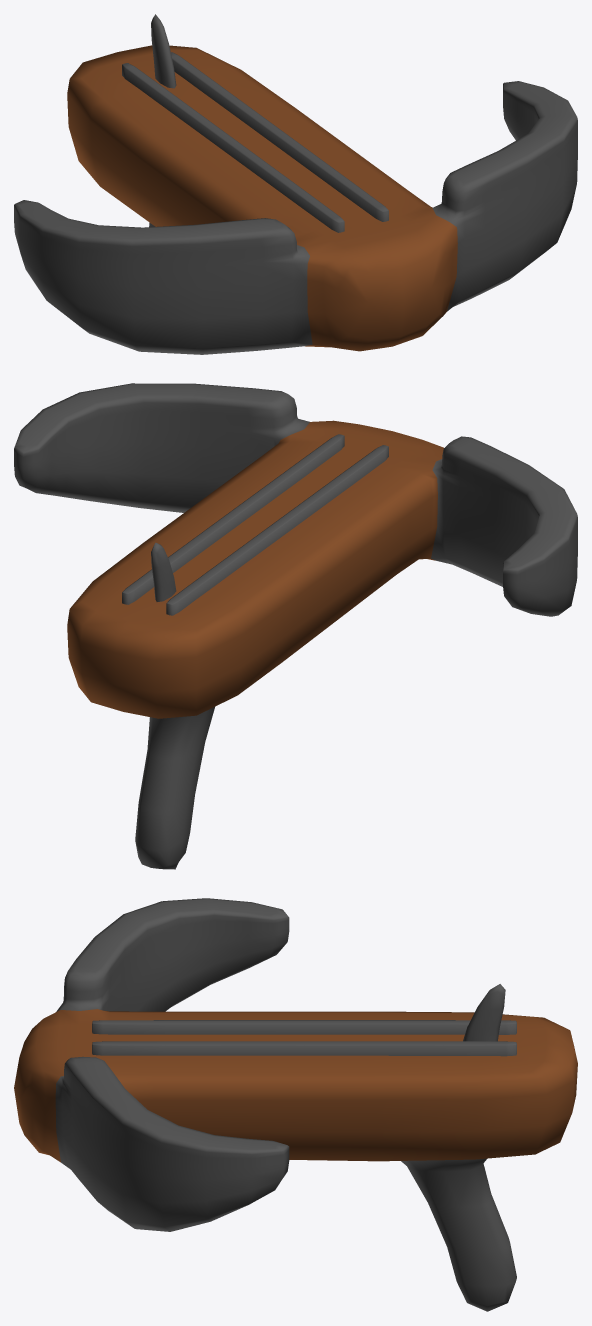
Rendered from CrossbowFBX.fbx.
The picture shows the model from 3 angles, top to bottom: view 1: azimuth 30°, elevation 25°; view 2: azimuth 150°, elevation 25°; view 3: azimuth 270°, elevation 25°; orthographic projection. The views are drawn at different scales.
Visible parts, largest first — view 1: Mesh; view 2: Mesh; view 3: Mesh.
Boxes of the visible parts, left/top/right/bottom form: Mesh: left=14, top=14, right=577, bottom=354; Mesh: left=14, top=383, right=577, bottom=869; Mesh: left=14, top=898, right=577, bottom=1311.
Size of the model in its own units: 223 by 134 by 212.
